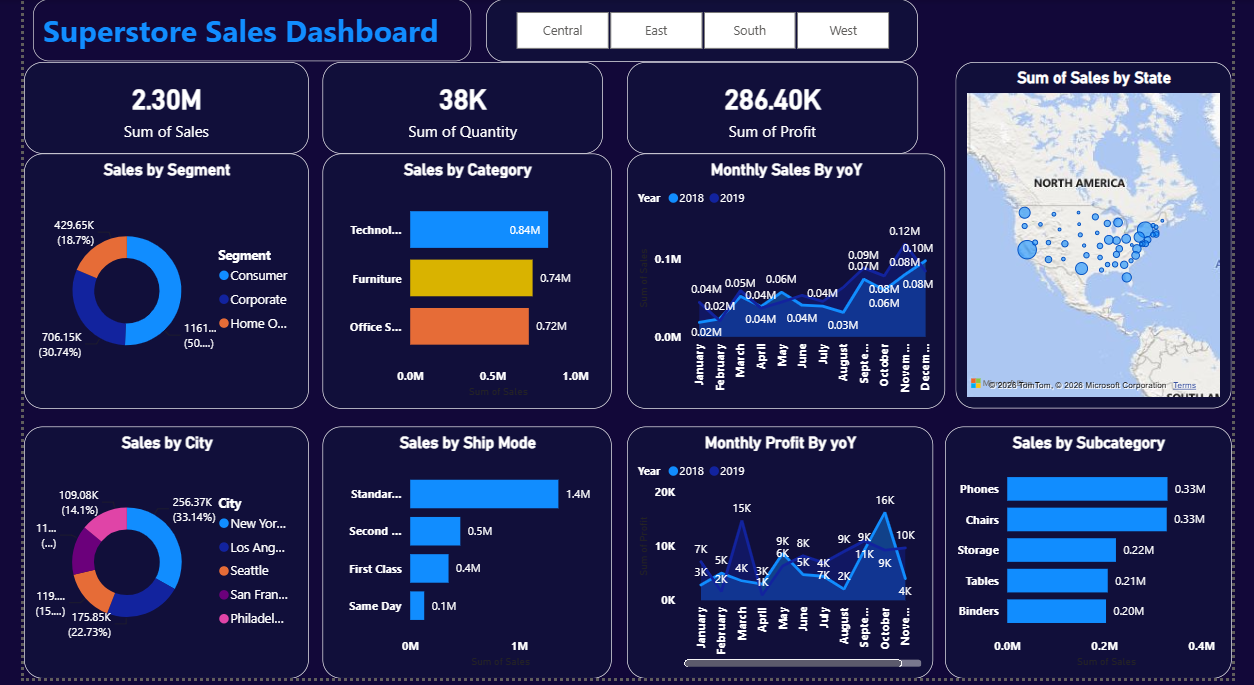

The page's visual inventory and layout, read from the dashboard file:
{"tool":"powerbi","page":{"name":"Page 1","canvas":[1280,720],"ordinal":0},"visuals":[{"type":"textbox","box":[9.4,0,464.9,66.1],"z":0},{"type":"donutChart","title":"Sales by Segment","fields":{"Y":["Sum(Orders.Sales)"],"Category":["Orders.Segment"]},"box":[0,163.8,302.2,270.4],"z":1},{"type":"barChart","title":"Sales by Category","fields":{"Category":["Orders.Category"],"Y":["Sum(Orders.Sales)"]},"box":[316.5,163.8,307,270.4],"z":2},{"type":"lineChart","title":"Monthly Sales By yoY","fields":{"Category":["Orders.Order Date.Variation.Date Hierarchy.Month"],"Y":["Sum(Orders.Sales)"],"Series":["Orders.Order Date.Variation.Date Hierarchy.Year"]},"box":[639.4,163.8,337.2,270.4],"z":3},{"type":"donutChart","title":"Sales by City","fields":{"Y":["Sum(Orders.Sales)"],"Category":["Orders.City"]},"box":[0,453.3,302.2,267.2],"z":4},{"type":"barChart","title":"Sales by Ship Mode","fields":{"Y":["Sum(Orders.Sales)"],"Category":["Orders.Ship Mode"]},"box":[316.5,453.3,307,267.2],"z":5},{"type":"lineChart","title":"Monthly Profit By yoY","fields":{"Category":["Orders.Order Date.Variation.Date Hierarchy.Month"],"Series":["Orders.Order Date.Variation.Date Hierarchy.Year"],"Y":["Sum(Orders.Profit)"]},"box":[639.4,453.3,324.5,267.2],"z":6},{"type":"barChart","title":"Sales by Subcategory","fields":{"Y":["Sum(Orders.Sales)"],"Category":["Orders.Sub-Category"]},"box":[976.6,453.3,303.8,267.2],"z":7},{"type":"card","fields":{"Values":["Sum(Orders.Sales)"]},"box":[0,66.8,302.2,97],"z":9},{"type":"card","fields":{"Values":["Sum(Orders.Quantity)"]},"box":[316.5,66.8,297.4,97],"z":10},{"type":"card","fields":{"Values":["Sum(Orders.Profit)"]},"box":[639.4,66.8,308.6,97],"z":11},{"type":"slicer","fields":{"Values":["Orders.Region"]},"box":[489.9,0,458.1,66.8],"z":12},{"type":"map","fields":{"Category":["Orders.State"],"Size":["Sum(Orders.Sales)"]},"box":[987.8,66.8,292.7,367.4],"z":13}]}

Visuals, with their boxes in screenshot pixels (x1, y1, x2, y2), scaled from the page's 1280x720 canvas onto the 1254x685 screenshot:
textbox: (9,0,465,63)
"Sales by Segment" donutChart: (0,156,296,413)
"Sales by Category" barChart: (310,156,611,413)
"Monthly Sales By yoY" lineChart: (626,156,957,413)
"Sales by City" donutChart: (0,431,296,684)
"Sales by Ship Mode" barChart: (310,431,611,684)
"Monthly Profit By yoY" lineChart: (626,431,944,684)
"Sales by Subcategory" barChart: (957,431,1253,684)
card - Sum(Orders.Sales): (0,64,296,156)
card - Sum(Orders.Quantity): (310,64,601,156)
card - Sum(Orders.Profit): (626,64,929,156)
slicer - Orders.Region: (480,0,929,64)
map - Orders.State x Sum(Orders.Sales): (968,64,1253,413)
